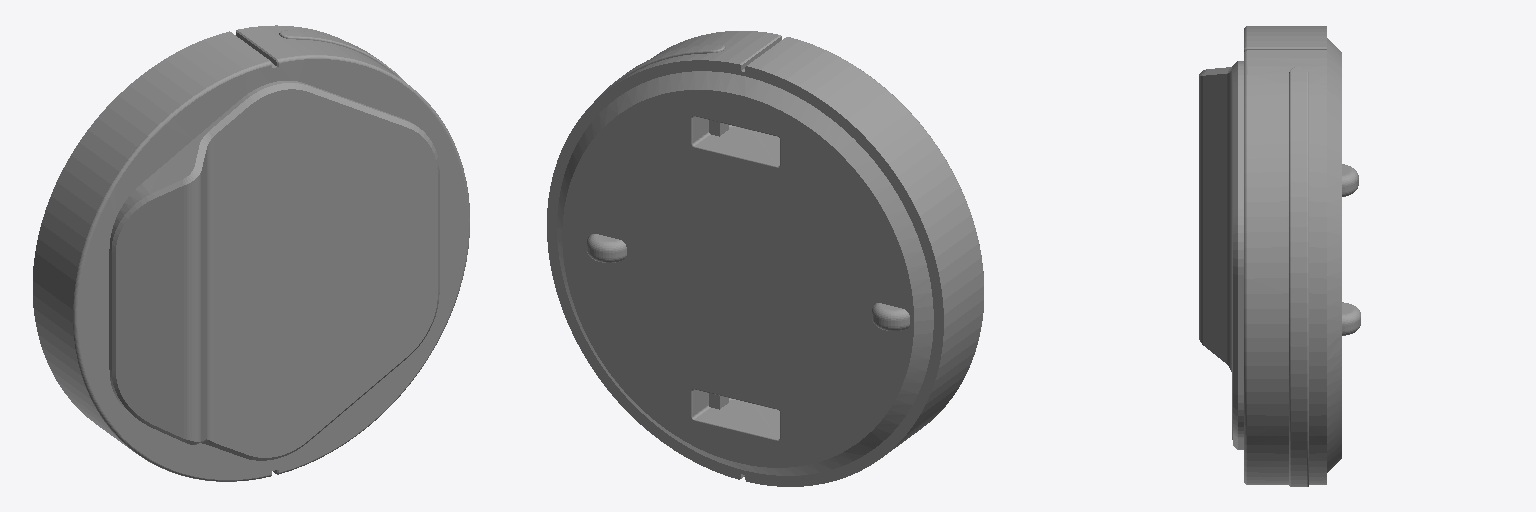
File: main_body.obj
3 renders of one model, left to right at view 1: azimuth 30°, elevation 25°; view 2: azimuth 150°, elevation 25°; view 3: azimuth 270°, elevation 25°, orthographic.
Parts seen in each view (by area): view 1: main_body.001; view 2: main_body.001; view 3: main_body.001.
Boxes of the visible parts, <box> form: main_body.001: <box>33,25,469,481</box>; main_body.001: <box>547,31,983,486</box>; main_body.001: <box>1199,26,1360,486</box>.
Bounding box in the file's own units: 0.3518 × 0.35 × 0.1243.